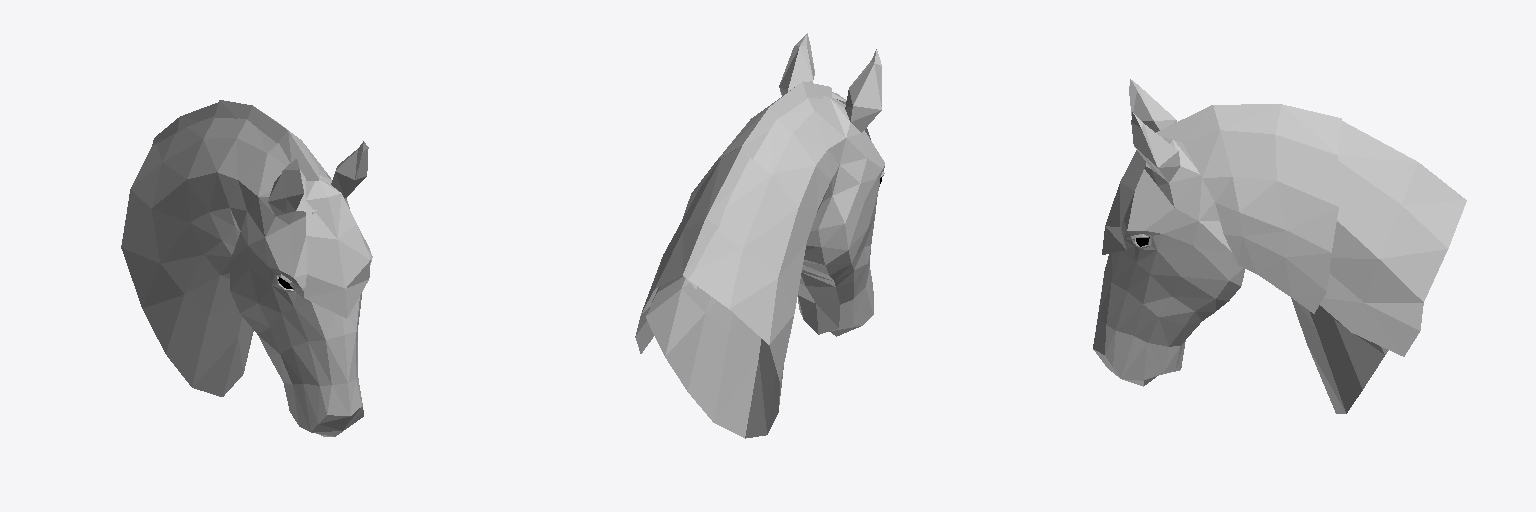
The model's file is CabezaCaballo.obj.
3 renders of one model, left to right at view 1: azimuth 30°, elevation 25°; view 2: azimuth 150°, elevation 25°; view 3: azimuth 270°, elevation 25°, orthographic.
Visible parts, largest first — view 1: Horse_body1.004; view 2: Horse_body1.004; view 3: Horse_body1.004.
Boxes of the visible parts, box(x1,y1,x2,y2) form: Horse_body1.004: box(121, 100, 372, 436); Horse_body1.004: box(635, 33, 884, 438); Horse_body1.004: box(1093, 79, 1466, 413).
Bounding box in the file's own units: 1.65 × 3.72 × 3.92.